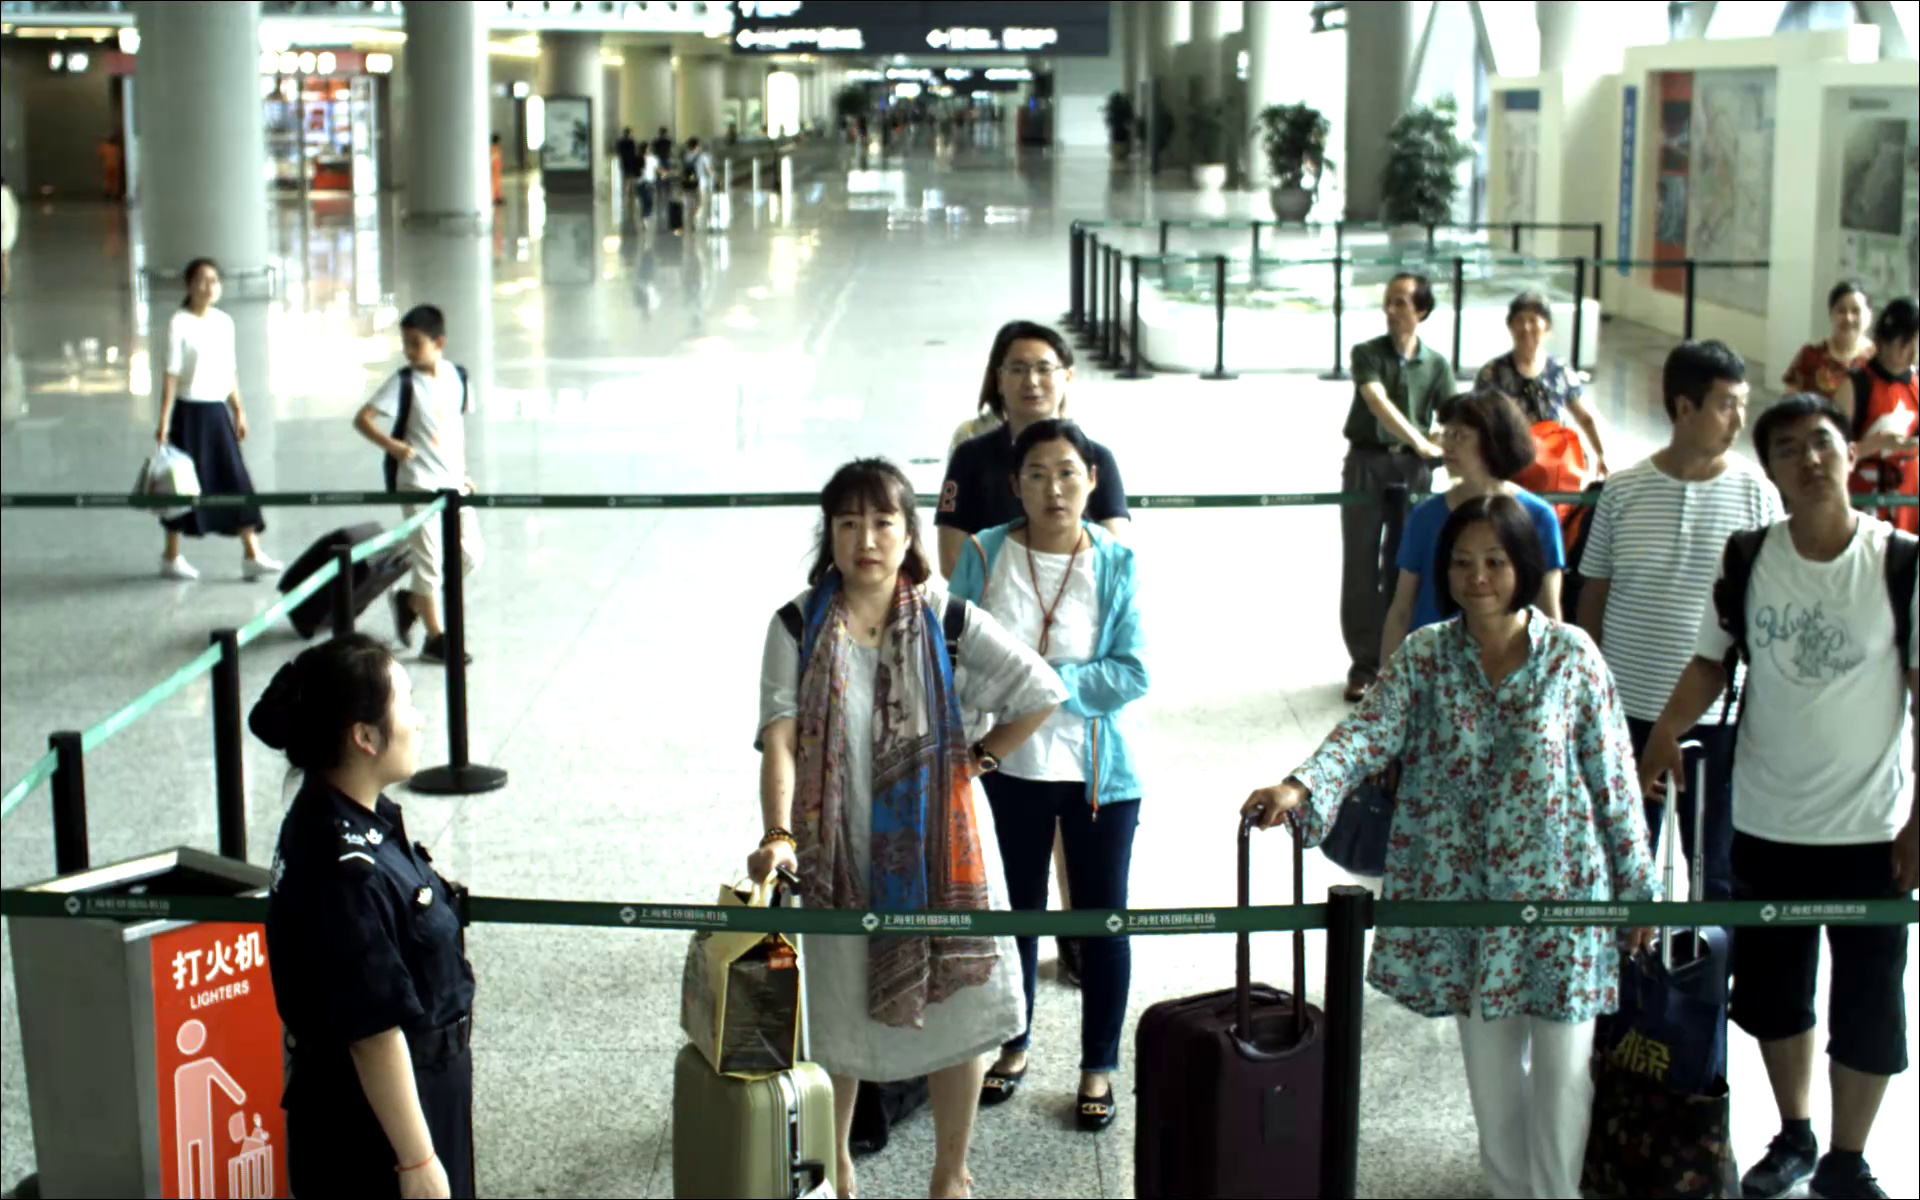person: (260, 636, 411, 789), (820, 456, 921, 593), (1443, 493, 1547, 611), (1658, 334, 1749, 458), (1432, 387, 1541, 489), (1756, 398, 1852, 513), (1011, 425, 1100, 533), (994, 322, 1072, 423), (1380, 267, 1434, 334), (396, 300, 447, 367), (1503, 291, 1554, 351), (1827, 280, 1872, 343), (1878, 300, 1918, 365), (183, 254, 225, 305)
